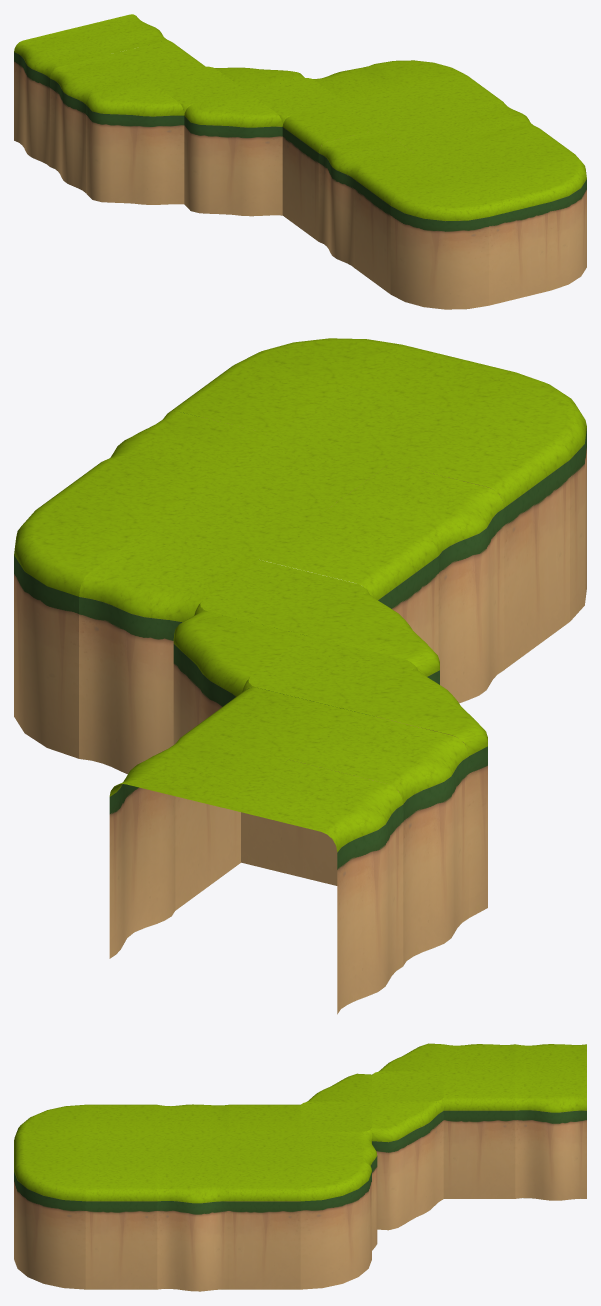
The model's file is TM_natural02.fbx.
The picture shows the model from 3 angles, top to bottom: view 1: azimuth 30°, elevation 25°; view 2: azimuth 150°, elevation 25°; view 3: azimuth 270°, elevation 25°; orthographic projection. The views are drawn at different scales.
Parts seen in each view (by area): view 1: TM_Grass_Corner05.063, TM_Grass_Corner05.059, TM_Grass_Corner05.060, TM_Grass_BasicCube01.265, TM_Grass_BasicCube01.115, TM_Grass_BasicCube01.282, TM_Grass_BasicCube01.135, TM_Grass_BasicCube01.271, TM_Grass_BasicCube01.270, TM_Grass_Corner05.061, Cube.064, Cube.065 (+11 smaller); view 2: TM_Grass_BasicCube01.276, TM_Grass_BasicCube01.271, TM_Grass_BasicCube01.270, TM_Grass_BasicCube01.135, TM_Grass_BasicCube01.115, TM_Grass_Corner05.064, TM_Grass_BasicCube01.277, Cube.064, TM_Grass_BasicCube01.278, TM_Grass_BasicCube01.282, TM_Grass_Corner05.058, TM_Grass_Corner05.063 (+11 smaller); view 3: TM_Grass_BasicCube01.273, TM_Grass_BasicCube01.278, TM_Grass_BasicCube01.277, TM_Grass_BasicCube01.272, TM_Grass_BasicCube01.281, TM_Grass_Corner05.064, TM_Grass_Corner05.061, TM_Grass_Corner05.058, TM_Grass_BasicCube01.276, TM_Grass_BasicCube01.274, Cube.064, Cube.065 (+11 smaller).
Part boxes in pixels (x1,y1,x2,y2): TM_Grass_Corner05.063: [390, 181, 488, 309]; TM_Grass_Corner05.059: [184, 91, 282, 216]; TM_Grass_Corner05.060: [86, 80, 184, 204]; TM_Grass_BasicCube01.265: [453, 166, 551, 305]; TM_Grass_BasicCube01.115: [318, 129, 416, 267]; TM_Grass_BasicCube01.282: [282, 102, 380, 241]; TM_Grass_BasicCube01.135: [354, 155, 452, 294]; TM_Grass_BasicCube01.271: [14, 27, 111, 166]; TM_Grass_BasicCube01.270: [50, 54, 147, 192]; TM_Grass_Corner05.061: [515, 153, 586, 290]; Cube.064: [148, 66, 245, 114]; Cube.065: [247, 78, 344, 125]; TM_Grass_BasicCube01.276: [79, 531, 258, 774]; TM_Grass_BasicCube01.271: [224, 760, 403, 1014]; TM_Grass_BasicCube01.270: [289, 711, 468, 965]; TM_Grass_BasicCube01.135: [391, 415, 569, 669]; TM_Grass_BasicCube01.115: [325, 463, 504, 703]; TM_Grass_Corner05.064: [14, 508, 143, 758]; TM_Grass_BasicCube01.277: [109, 735, 288, 958]; Cube.064: [241, 635, 418, 885]; TM_Grass_BasicCube01.278: [175, 687, 354, 910]; TM_Grass_BasicCube01.282: [259, 511, 438, 656]; TM_Grass_Corner05.058: [173, 611, 306, 744]; TM_Grass_Corner05.063: [456, 372, 586, 621]; TM_Grass_BasicCube01.273: [85, 1162, 157, 1289]; TM_Grass_BasicCube01.278: [443, 1071, 515, 1198]; TM_Grass_BasicCube01.277: [515, 1071, 586, 1200]; TM_Grass_BasicCube01.272: [157, 1162, 228, 1291]; TM_Grass_BasicCube01.281: [229, 1162, 300, 1289]; TM_Grass_Corner05.064: [300, 1162, 371, 1289]; TM_Grass_Corner05.061: [14, 1162, 85, 1289]; TM_Grass_Corner05.058: [372, 1101, 443, 1230]; TM_Grass_BasicCube01.276: [300, 1131, 377, 1250]; TM_Grass_BasicCube01.274: [85, 1131, 157, 1161]; Cube.064: [372, 1071, 443, 1109]; Cube.065: [300, 1101, 371, 1139].
Size of the model in its own units: 20.56 by 6.02 by 32.
